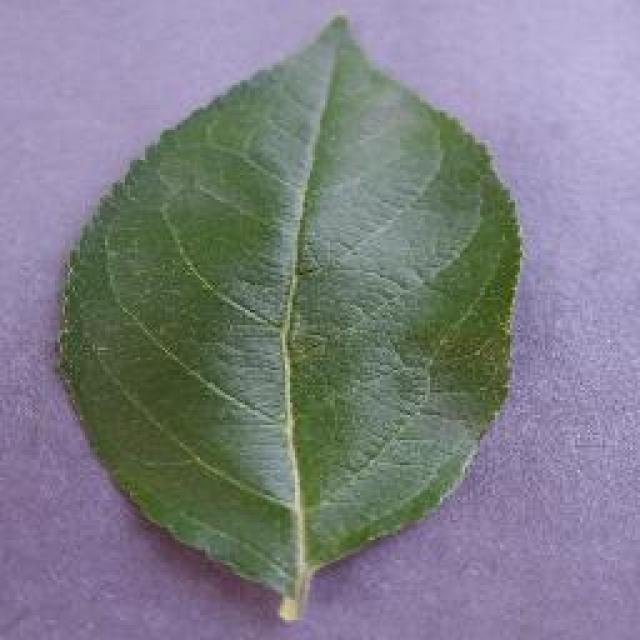apple healthy: (53, 12, 525, 620)
